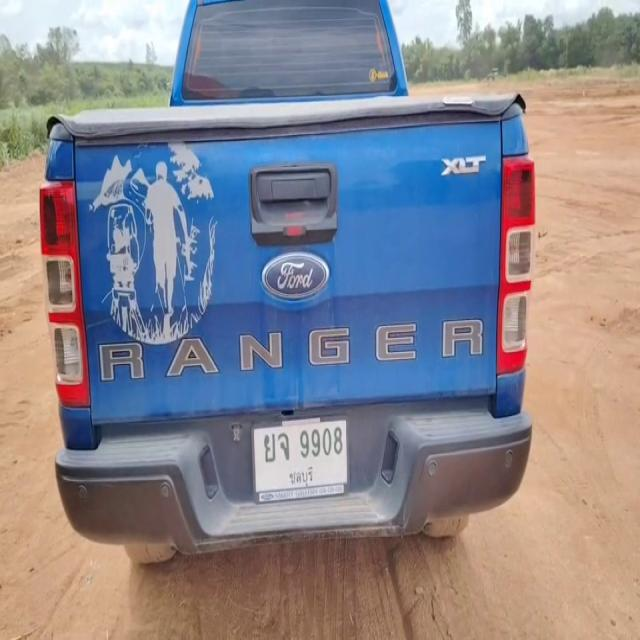Digit: (298, 425, 343, 460)
Licenseplate: (251, 420, 348, 498)
Provincename: (289, 467, 316, 487)
Thaichar: (264, 430, 290, 466)
